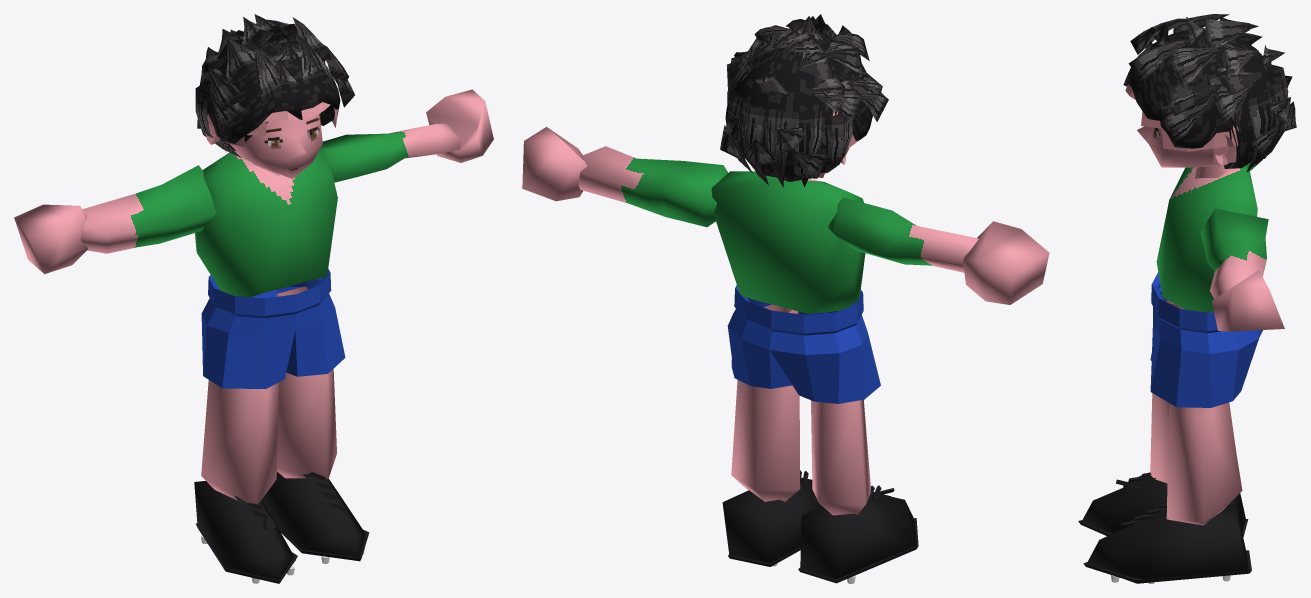
The model's file is 06-espetado-gel_preto.glb.
The picture shows the model from 3 angles, left to right: view 1: azimuth 30°, elevation 25°; view 2: azimuth 150°, elevation 25°; view 3: azimuth 270°, elevation 25°; orthographic projection. The views are drawn at different scales.
Visible parts, largest first — view 1: Camisa_Tronco, Cabelo, Bermuda, Perna.R, Braco.R, Perna.L, Chuteira.R, Chuteira.L, Braco.L, Mao.R, Cabeca, Mao.L (+2 smaller); view 2: Cabelo, Camisa_Tronco, Bermuda, Perna.L, Braco.L, Chuteira.R, Perna.R, Braco.R, Mao.R, Chuteira.L, Mao.L, Chuteira_Sola.R; view 3: Cabelo, Bermuda, Chuteira.L, Camisa_Tronco, Perna.L, Braco.L, Mao.L, Chuteira.R, Perna.R, Cabeca, Couro_Cabeludo, Chuteira_Sola.L (+3 smaller).
Part boxes in pixels (x1,y1,x2,y2): Camisa_Tronco: (195,150,337,297); Cabelo: (195,14,354,157); Bermuda: (201,269,345,389); Perna.R: (201,380,278,504); Braco.R: (80,165,216,253); Perna.L: (277,286,336,479); Chuteira.R: (194,481,295,579); Chuteira.L: (262,472,365,557); Braco.L: (319,123,461,182); Mao.R: (14,204,88,274); Cabeca: (230,113,322,178); Mao.L: (426,89,493,162); Cabelo: (720,14,888,187); Camisa_Tronco: (711,171,865,313); Bermuda: (727,285,880,403); Perna.L: (731,304,800,501); Braco.L: (578,146,727,227); Chuteira.R: (800,492,916,579); Perna.R: (811,399,870,515); Braco.R: (827,197,978,272); Mao.R: (963,221,1049,304); Chuteira.L: (722,477,822,563); Mao.L: (522,127,586,201); Chuteira_Sola.R: (798,518,918,583); Cabelo: (1123,14,1296,172); Bermuda: (1150,272,1262,407); Chuteira.L: (1087,504,1248,583); Camisa_Tronco: (1156,164,1257,312); Perna.L: (1166,402,1242,525); Braco.L: (1201,208,1268,298); Mao.L: (1211,270,1284,331); Chuteira.R: (1082,476,1245,533); Perna.R: (1150,300,1235,483); Cabeca: (1137,126,1221,167); Couro_Cabeludo: (1125,84,1238,168); Chuteira_Sola.L: (1083,550,1251,583).
Size of the model in its own units: 0.4523 by 0.4669 by 0.171.
3 materials, 3 textured.
